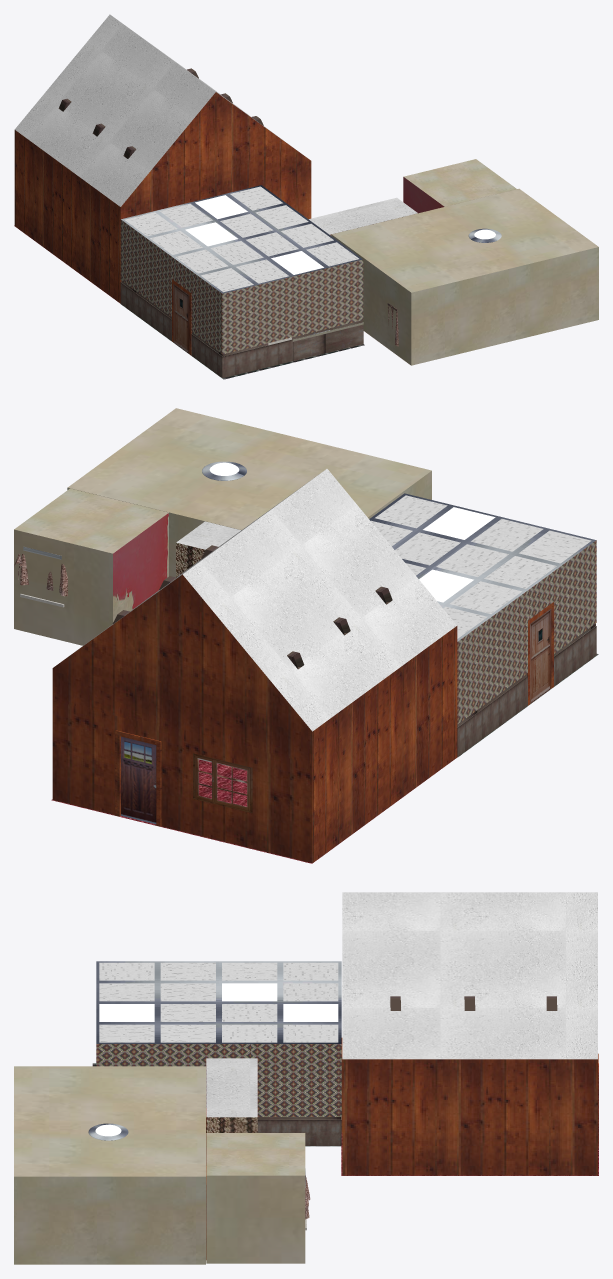
File: house-interior3.glb
3 renders of one model, top to bottom at view 1: azimuth 30°, elevation 25°; view 2: azimuth 150°, elevation 25°; view 3: azimuth 270°, elevation 25°, orthographic. The views are drawn at different scales.
Parts seen in each view (by area): view 1: living-roof, bedrm-wl, bedrm-ceiling, living-roof-wls, w-house-interior-upper, dropceiling-tiles, living-main, dropceiling-bars, bathroom_ceiling, dropceiling-lite, hallway_ceiling, wall-house-interior-lower-west.001 (+6 smaller); view 2: living-roof, living-main, living-roof-wls, bedrm-ceiling, dropceiling-tiles, w-house-interior-upper, bathroom_mainwl, bathroom_ceiling, dropceiling-bars, bathroom_paintwl, living-door, dropceiling-lite (+11 smaller); view 3: living-roof, living-main, bedrm-ceiling, bedrm-wl, dropceiling-tiles, w-house-interior-upper, bathroom_mainwl, living-roof-wls, dropceiling-bars, bathroom_ceiling, hallway_ceiling, dropceiling-lite (+3 smaller).
Part boxes in pixels (x1,y1,x2,y2): living-roof: (15,14,298,206); bedrm-wl: (331,235,598,365); bedrm-ceiling: (332,188,598,292); living-roof-wls: (14,92,311,230); w-house-interior-upper: (120,219,363,354); dropceiling-tiles: (124,186,358,292); living-main: (14,154,311,303); dropceiling-bars: (121,185,362,293); bathroom_ceiling: (404,159,516,206); dropceiling-lite: (185,195,323,274); hallway_ceiling: (309,197,417,234); wall-house-interior-lower-west.001: (222,322,362,378); living-roof: (64,469,456,731); living-main: (52,658,457,863); living-roof-wls: (52,574,457,764); bedrm-ceiling: (68,408,431,529); dropceiling-tiles: (371,495,591,638); w-house-interior-upper: (457,540,596,724); bathroom_mainwl: (14,529,112,645); bathroom_ceiling: (14,488,168,553); dropceiling-bars: (369,493,596,641); bathroom_paintwl: (113,513,168,622); living-door: (121,736,156,824); dropceiling-lite: (419,507,495,602); living-roof: (342,892,597,1059); living-main: (342,1088,597,1175); bedrm-ceiling: (14,1066,205,1176); bedrm-wl: (14,1176,205,1264); dropceiling-tiles: (99,962,338,1042); w-house-interior-upper: (96,1044,341,1116); bathroom_mainwl: (206,1175,305,1263); living-roof-wls: (342,1059,597,1088); dropceiling-bars: (96,961,341,1043); bathroom_ceiling: (206,1133,305,1175); hallway_ceiling: (206,1058,257,1117); dropceiling-lite: (99,983,338,1021).
Size of what is drawn, in the model's own units: 35.81 by 18.98 by 43.93.
41 materials, 40 textured.
